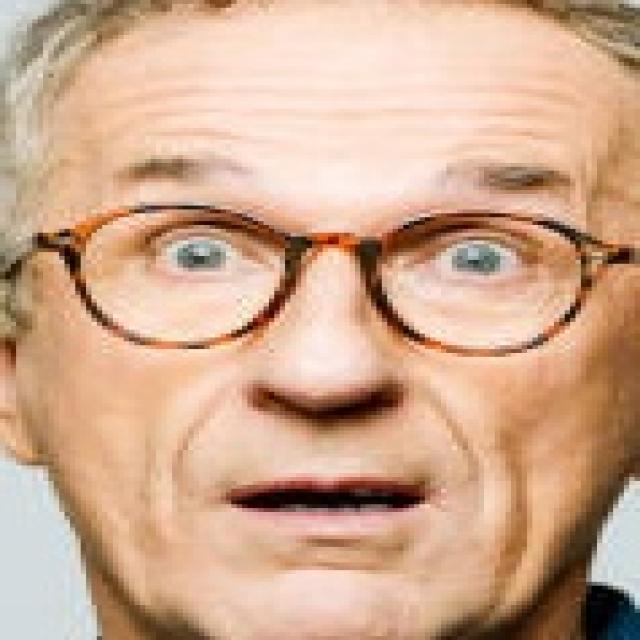Anxiety: (5, 5, 640, 636)
